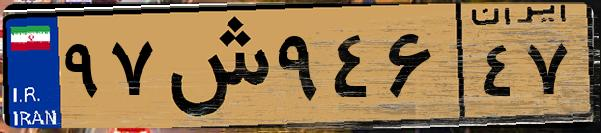4: (330, 28, 385, 110), (475, 38, 525, 113)
6: (385, 28, 445, 110)
7: (525, 38, 570, 115), (110, 28, 158, 98)
9: (270, 28, 330, 110), (57, 26, 110, 100)
ش: (158, 12, 270, 120)
